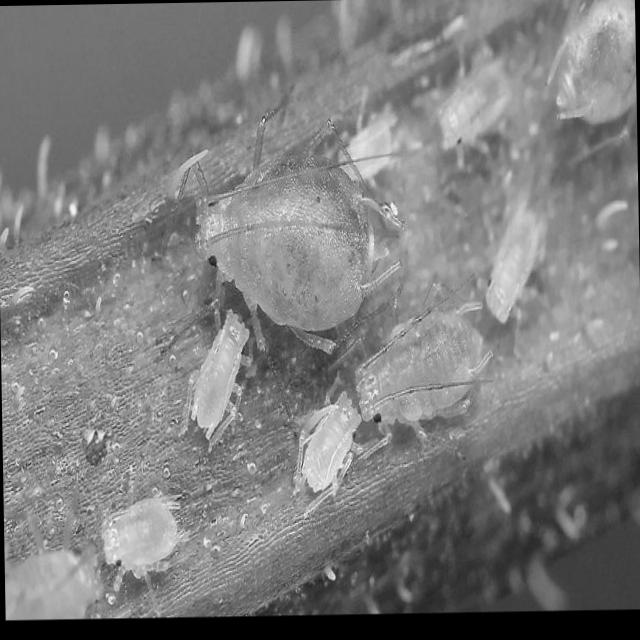Aphids: (145, 122, 406, 376), (352, 294, 488, 451), (170, 276, 270, 448), (283, 360, 371, 522), (90, 475, 193, 609), (428, 48, 522, 156)
